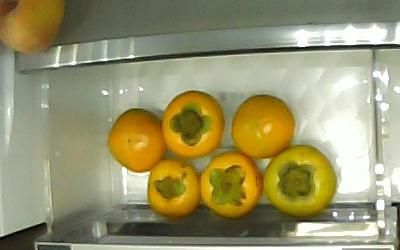persimmon: (263, 146, 335, 215), (160, 91, 226, 156), (231, 95, 294, 160), (201, 154, 262, 217), (108, 109, 166, 174), (147, 159, 201, 216)
